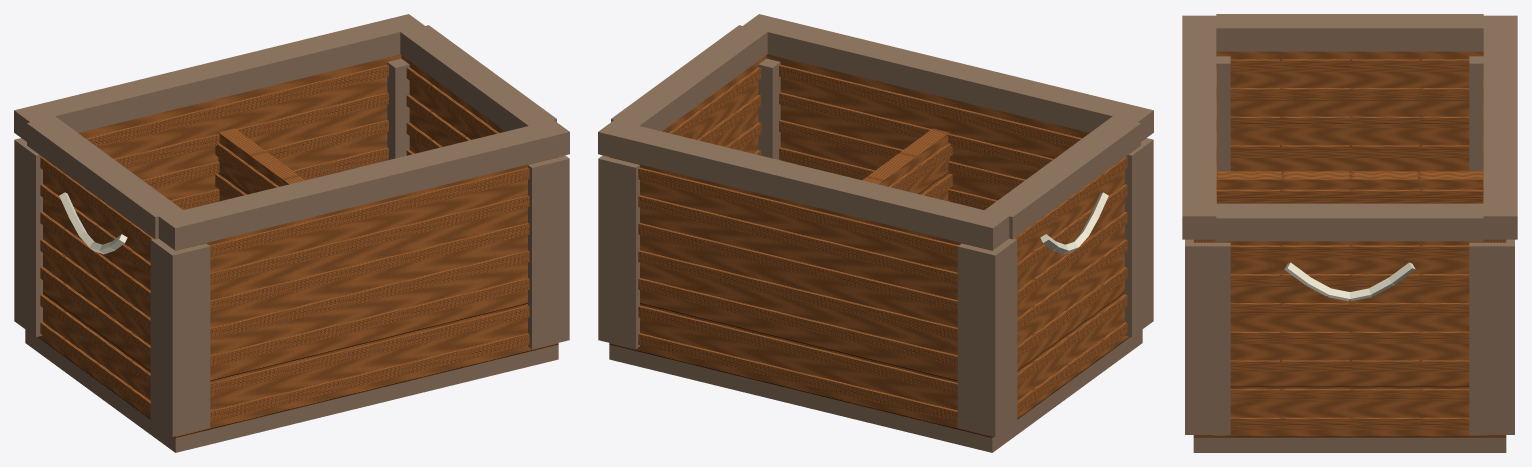
File: hot-air-balloon-festival-balloon-basket-four-person-b9d602f4__38472.glb
3 renders of one model, left to right at view 1: azimuth 30°, elevation 25°; view 2: azimuth 150°, elevation 25°; view 3: azimuth 270°, elevation 25°, orthographic. The views are drawn at different scales.
Visible parts, largest first — view 1: balloon-basket-four-person-wicker, balloon-basket-four-person-leather, balloon-basket-four-person-rope; view 2: balloon-basket-four-person-wicker, balloon-basket-four-person-leather, balloon-basket-four-person-rope; view 3: balloon-basket-four-person-wicker, balloon-basket-four-person-leather, balloon-basket-four-person-rope.
Boxes of the visible parts, left/top/right/bottom form: balloon-basket-four-person-wicker: left=37, top=54, right=558, bottom=437; balloon-basket-four-person-leather: left=14, top=14, right=569, bottom=452; balloon-basket-four-person-rope: left=59, top=192, right=127, bottom=254; balloon-basket-four-person-wicker: left=609, top=54, right=1130, bottom=437; balloon-basket-four-person-leather: left=598, top=14, right=1153, bottom=452; balloon-basket-four-person-rope: left=1040, top=192, right=1108, bottom=254; balloon-basket-four-person-wicker: left=1193, top=51, right=1506, bottom=437; balloon-basket-four-person-leather: left=1182, top=14, right=1517, bottom=452; balloon-basket-four-person-rope: left=1284, top=262, right=1415, bottom=301.
Size of the model in its own units: 1.72 by 0.93 by 1.18.
3 materials, 1 textured.
